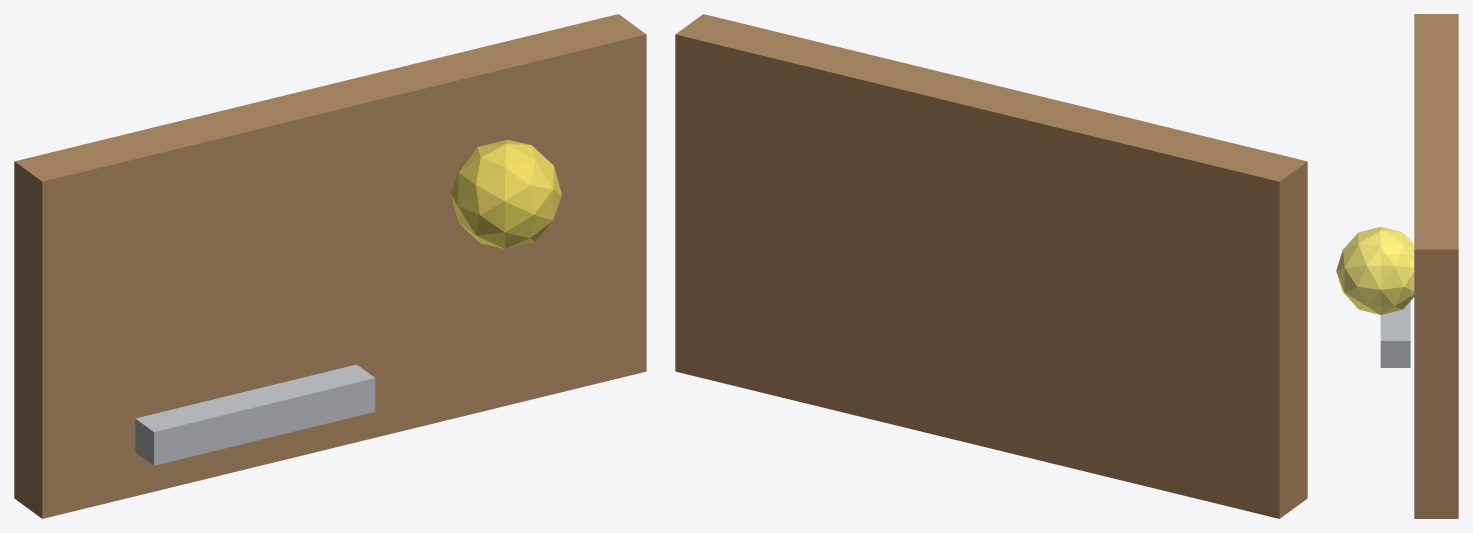
File: enchanting_table_station.glb
The picture shows the model from 3 angles, left to right: view 1: azimuth 30°, elevation 25°; view 2: azimuth 150°, elevation 25°; view 3: azimuth 270°, elevation 25°; orthographic projection. The views are drawn at different scales.
Visible parts, largest first — view 1: bench_top, tool_a, power_core; view 2: bench_top; view 3: bench_top, power_core, tool_a.
Boxes of the visible parts, <box> form: bench_top: <box>14,14,646,518</box>; tool_a: <box>135,364,375,465</box>; power_core: <box>450,139,561,248</box>; bench_top: <box>675,14,1307,518</box>; bench_top: <box>1414,14,1458,518</box>; power_core: <box>1336,226,1414,314</box>; tool_a: <box>1380,301,1410,367</box>.
Bounding box in the file's own units: 1.5 × 0.8 × 0.33.
